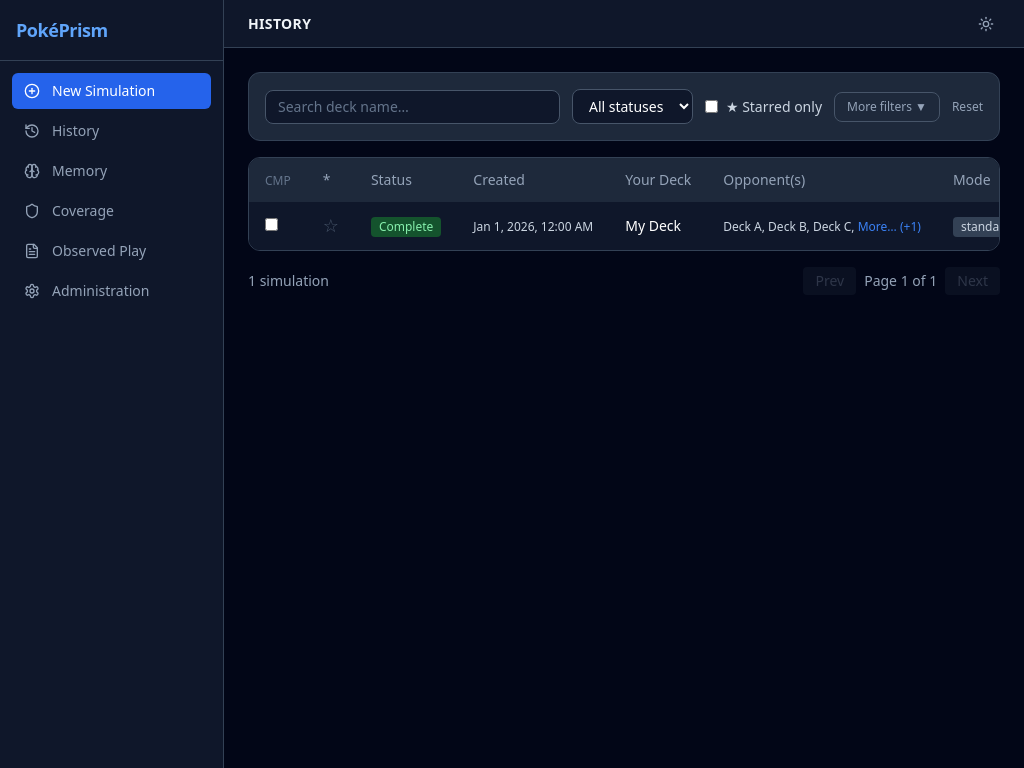
Test case: History page › clicking More… opens the opponent deck modal with all opponents
The width and height of the screenshot is (1024, 768).
expect the element with test id "history-table" is shown: met, box [248,157,1000,251]
Click the button with test id "opponent-more-btn": [889, 227] box [858,219,921,235]
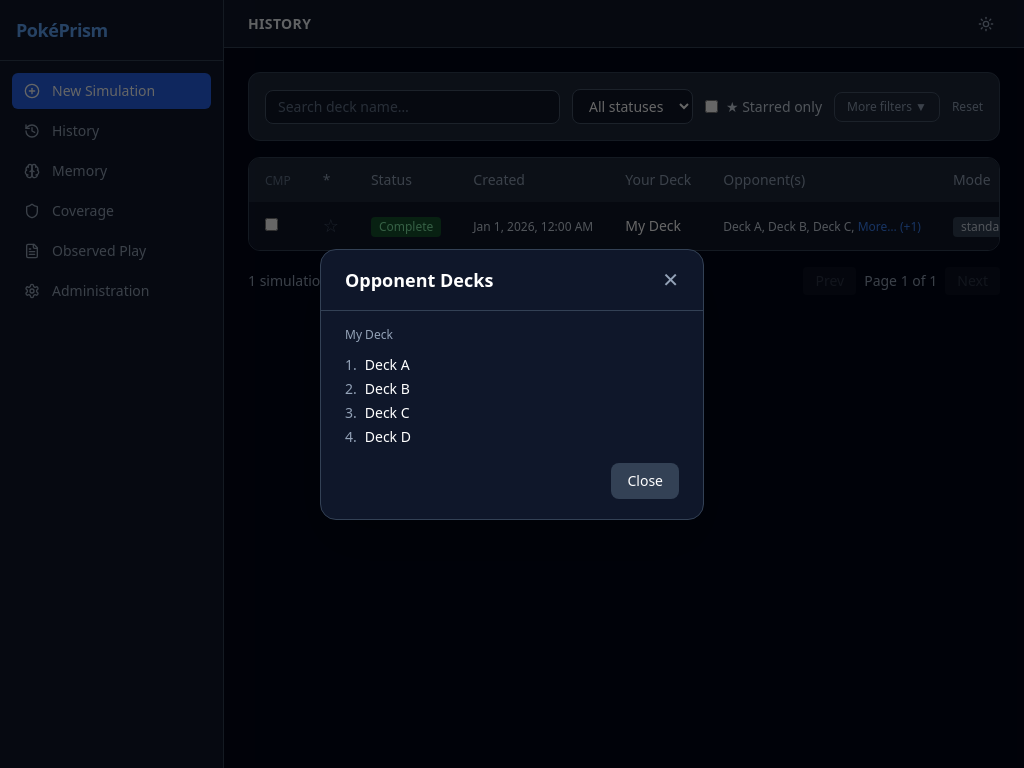
expect the dialog with test id "opponent-deck-modal" is shown: met
expect the list with test id "opponent-deck-list" shows "Deck A": met, box [365,354,410,374]
expect the list with test id "opponent-deck-list" shows "Deck B": met, box [365,378,410,398]
